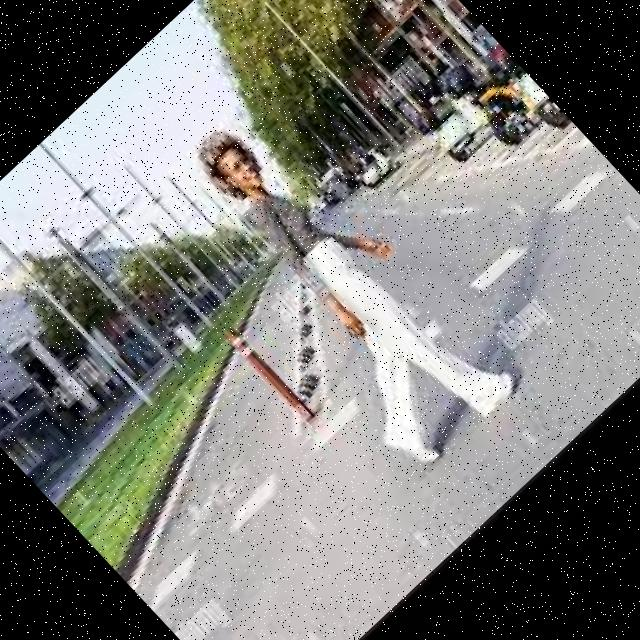Person: (147, 90, 526, 482)
